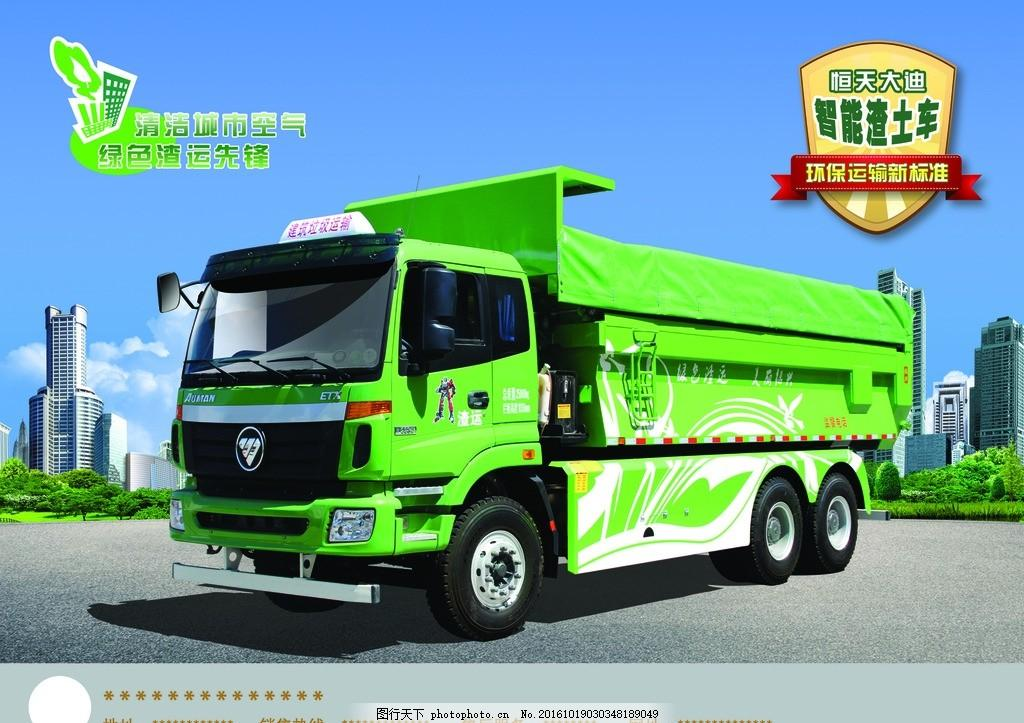truck: (160, 166, 920, 638)
